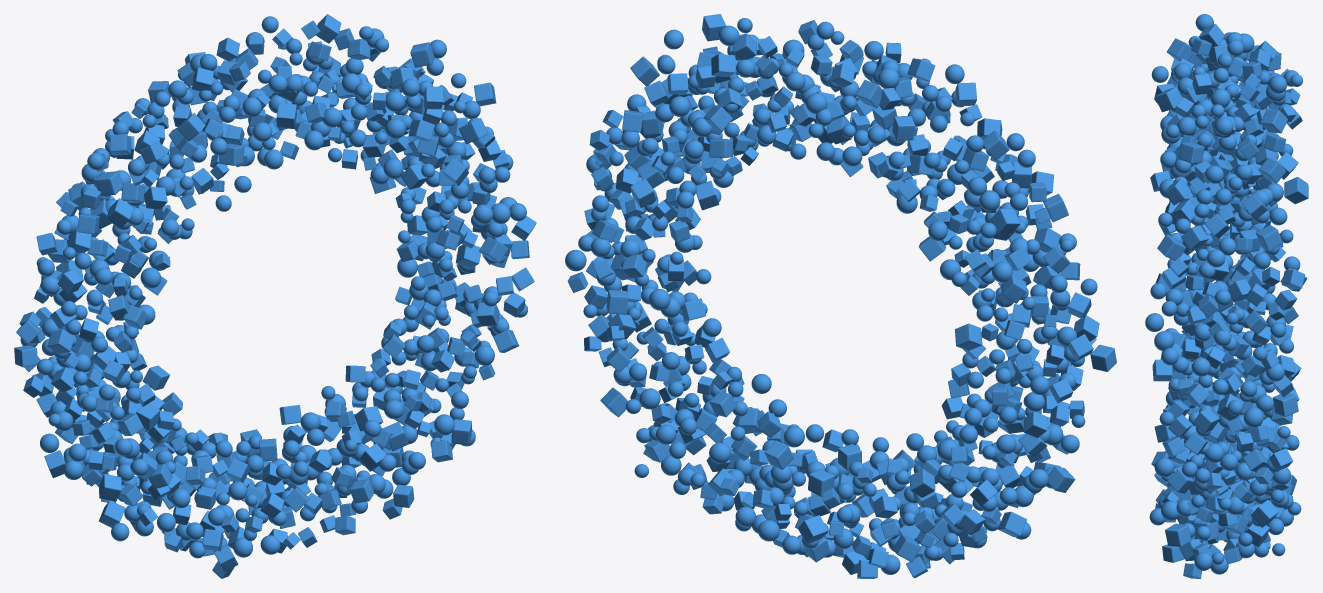
File: IrysBannerParticles.glb
3 renders of one model, left to right at view 1: azimuth 30°, elevation 25°; view 2: azimuth 150°, elevation 25°; view 3: azimuth 270°, elevation 25°, orthographic. The views are drawn at different scales.
Parts seen in each view (by area): view 1: no part large enough to name; view 2: no part large enough to name; view 3: GN Instance (×120).
Boxes of the visible parts, bbox=[...] form: GN Instance (×120): bbox=[1145, 14, 1308, 578].
Size of the model in its own units: 8.06 by 7.96 by 2.32.
